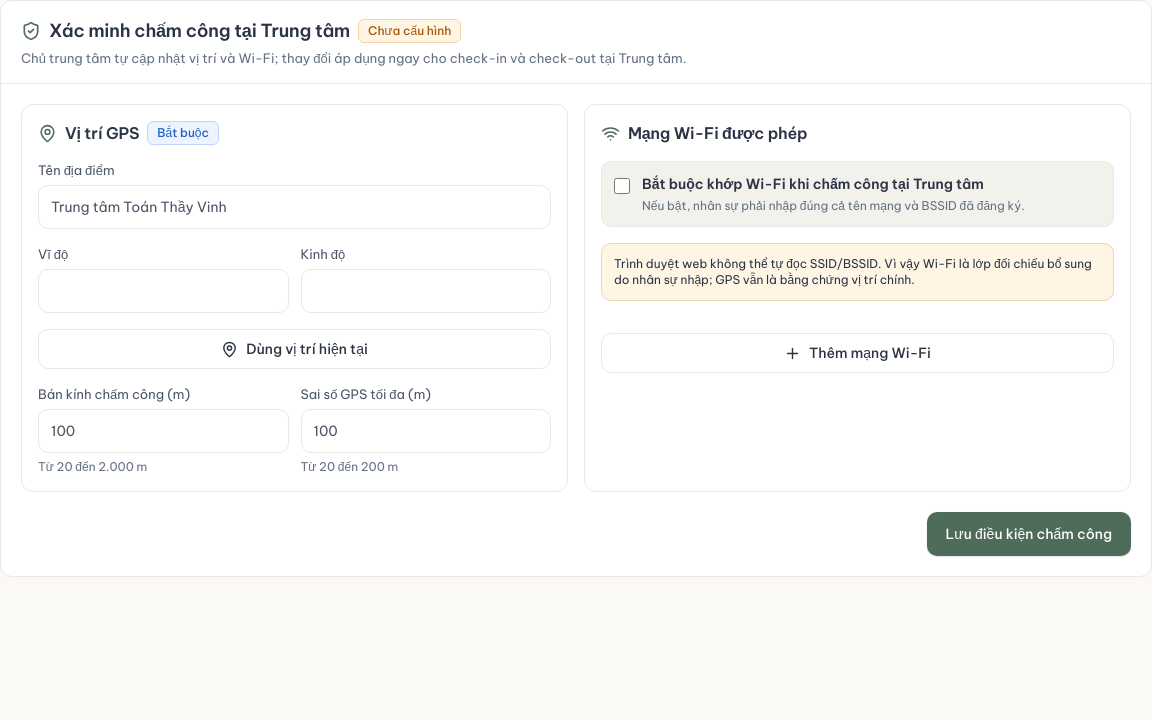
Test case: Attendance verification settings › captures the owner location and saves normalized GPS and Wi-Fi policy
The width and height of the screenshot is (1152, 720).
Click the button "Dùng vị trí hiện tại". click: (294, 349)
box: left=38, top=329, right=551, bottom=369
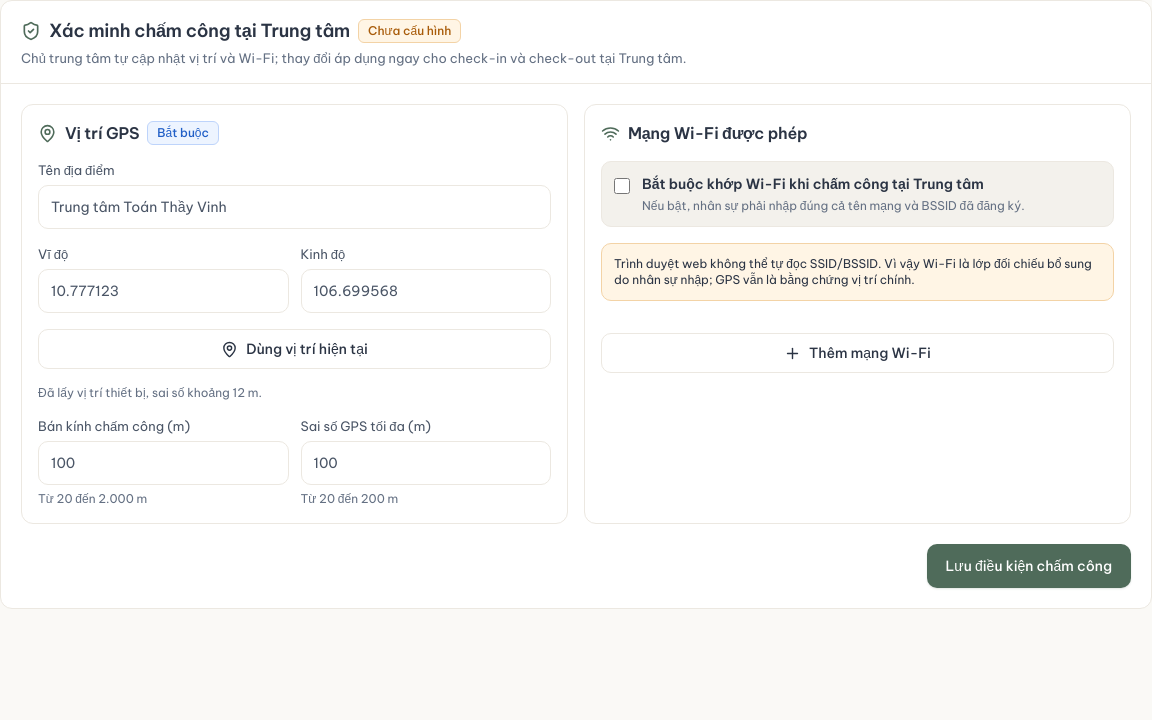
Check: the number field labelled "Vĩ độ" holds "10.777123", box left=38, top=269, right=288, bottom=313
Check: the number field labelled "Kinh độ" holds "106.699568", box left=300, top=269, right=551, bottom=313
Click the checkbox labelled "Bắt buộc khớp Wi-Fi". click: (622, 186)
box: left=614, top=178, right=630, bottom=194
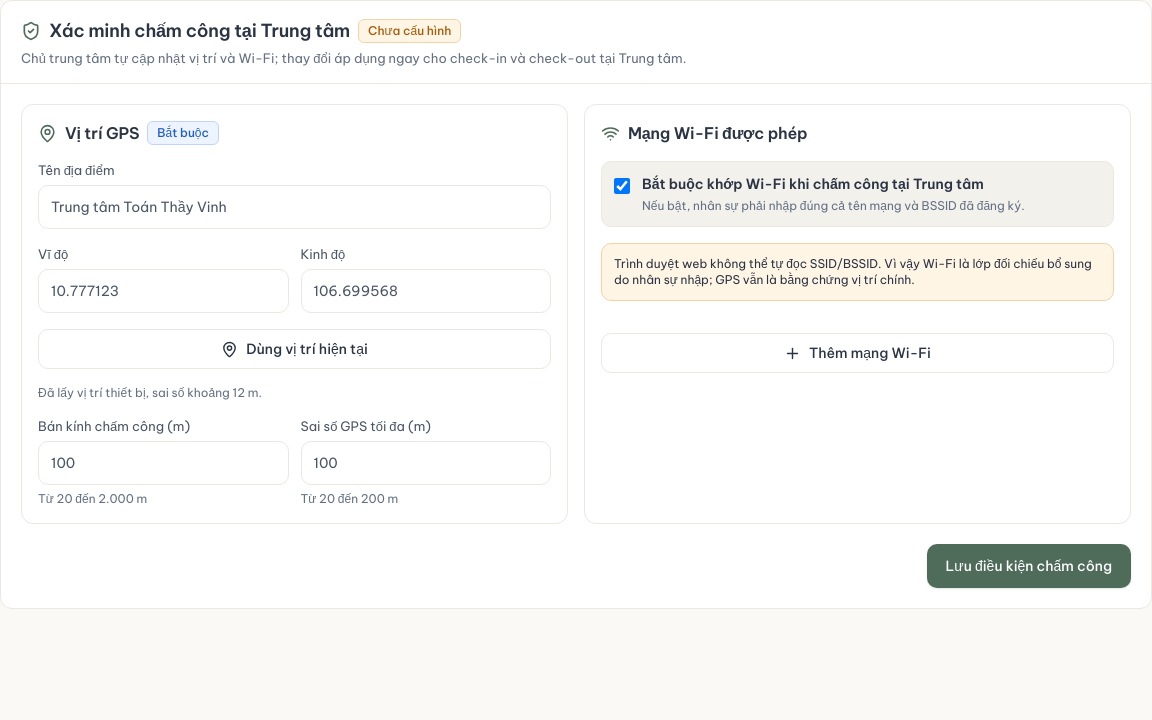
Click the button "Thêm mạng Wi-Fi". click: (858, 353)
box: left=601, top=333, right=1114, bottom=373
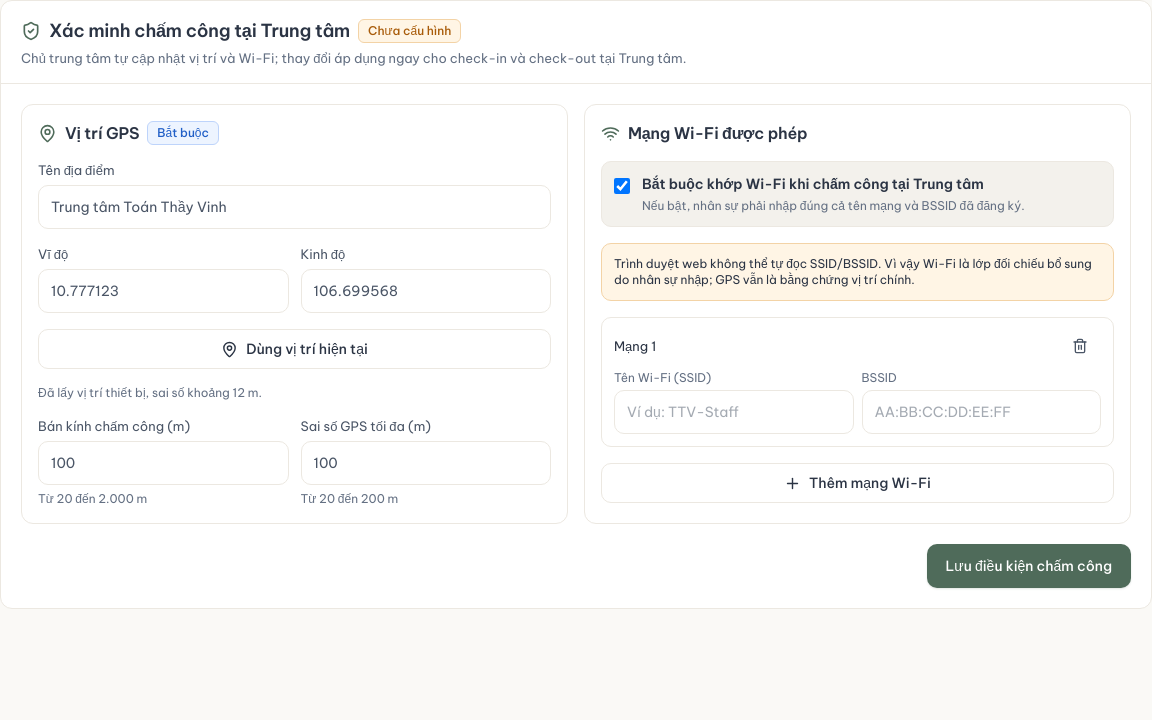
Type "TTV-Staff" into the field labelled "Tên Wi-Fi (SSID)". click: (734, 412)
box: left=614, top=390, right=854, bottom=434
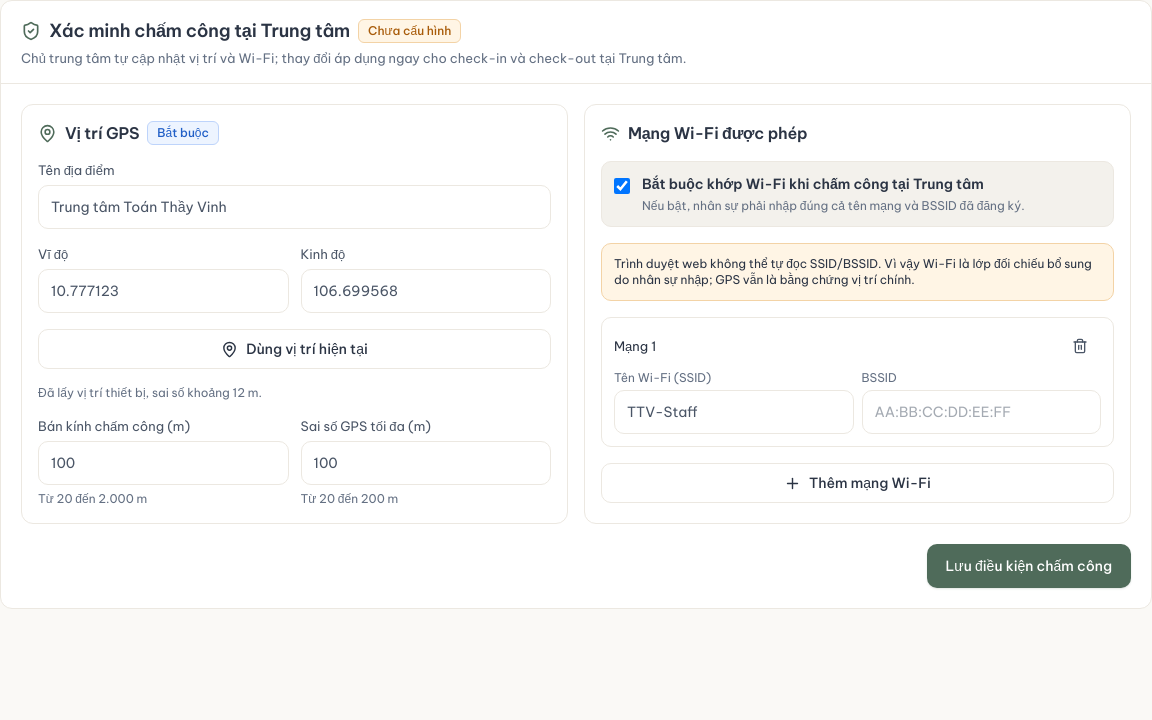
Type "aa:bb:cc:dd:ee:ff" into the field labelled "BSSID". click: (981, 412)
box: left=862, top=390, right=1101, bottom=434
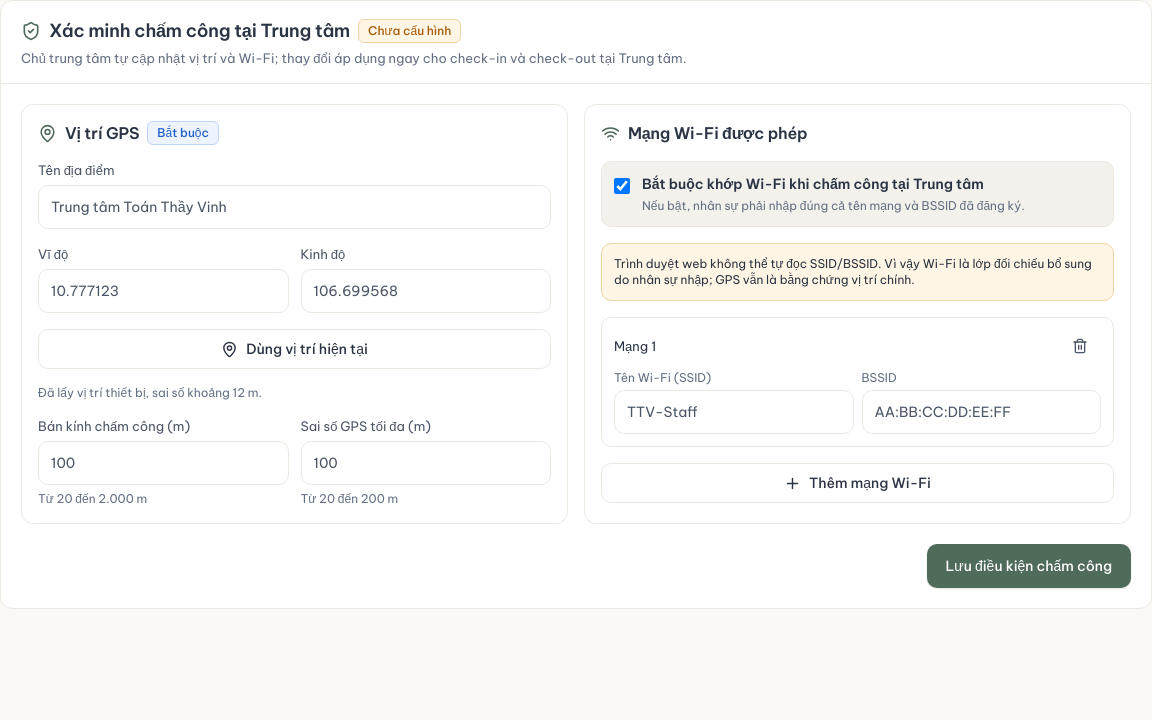
Click the button "Lưu điều kiện chấm công". click: (1029, 566)
box: left=926, top=544, right=1131, bottom=588
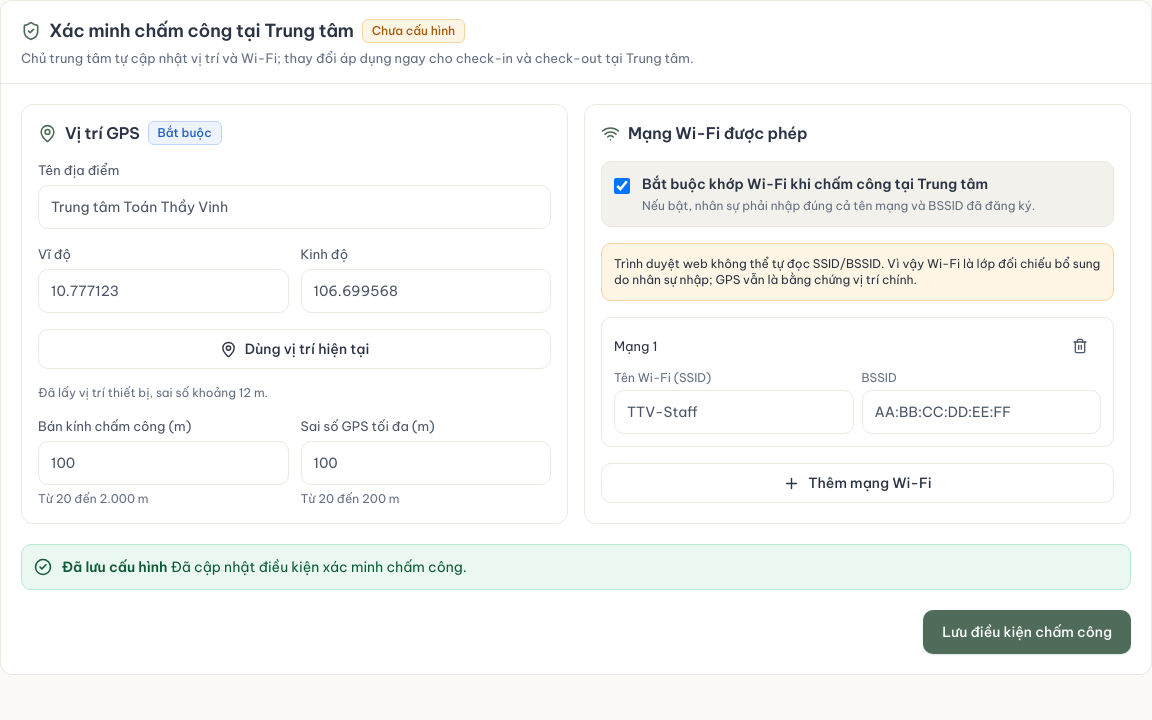
Check: the text "Đã lưu cấu hình" is shown, box left=62, top=558, right=167, bottom=576
